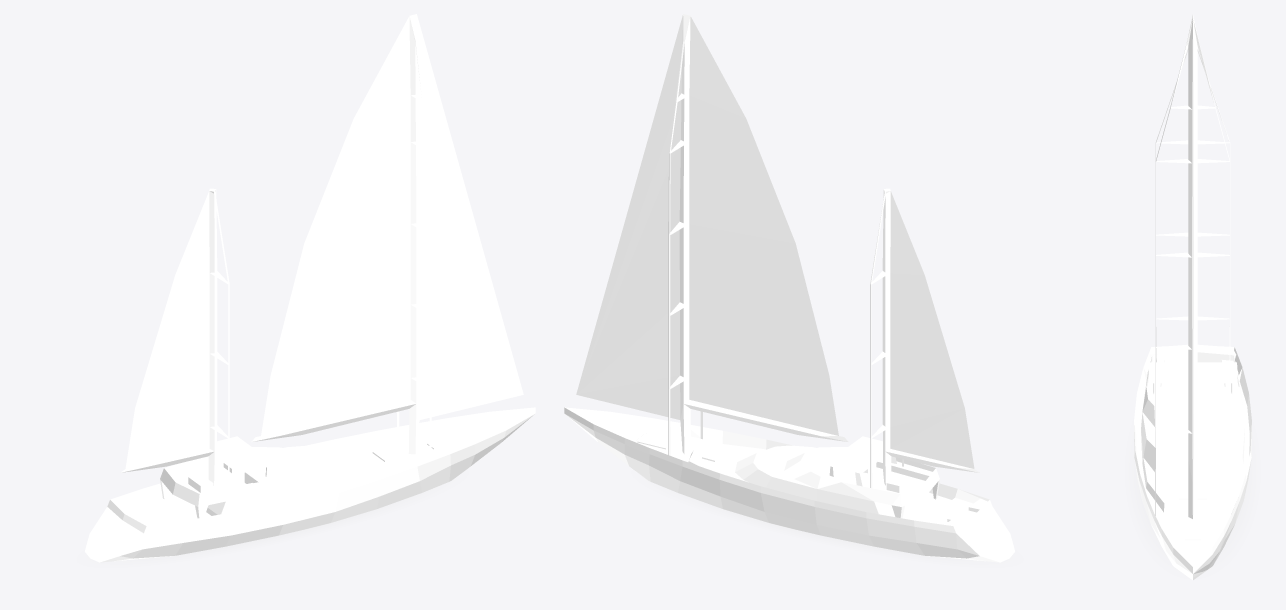
File: AIS_Sailboat-SuperSail-A_001.glb
3 views of the same model, side by side, from view 1: azimuth 30°, elevation 25°; view 2: azimuth 150°, elevation 25°; view 3: azimuth 270°, elevation 25° (orthographic). The views are drawn at different scales.
Visible parts, largest first — view 1: AIS_Sailboat-Large-A.001, SurfaceGraphic_whiteGlow.016; view 2: AIS_Sailboat-Large-A.001, SurfaceGraphic_whiteGlow.016; view 3: AIS_Sailboat-Large-A.001, SurfaceGraphic_whiteGlow.016.
Part boxes in pixels (box(x1,y1,x2,y2)): AIS_Sailboat-Large-A.001: box(85, 14, 535, 562); SurfaceGraphic_whiteGlow.016: box(138, 494, 419, 559); AIS_Sailboat-Large-A.001: box(564, 14, 1014, 562); SurfaceGraphic_whiteGlow.016: box(680, 494, 961, 559); AIS_Sailboat-Large-A.001: box(1134, 15, 1251, 579); SurfaceGraphic_whiteGlow.016: box(1136, 475, 1249, 547).
Size of the model in its own units: 32.83 by 30.09 by 8.03.
Materials: 2 (1 with a texture image).
